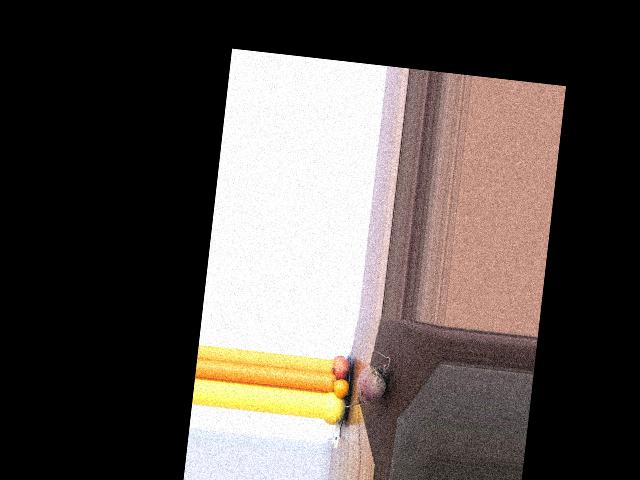beet: (340, 347, 391, 412)
